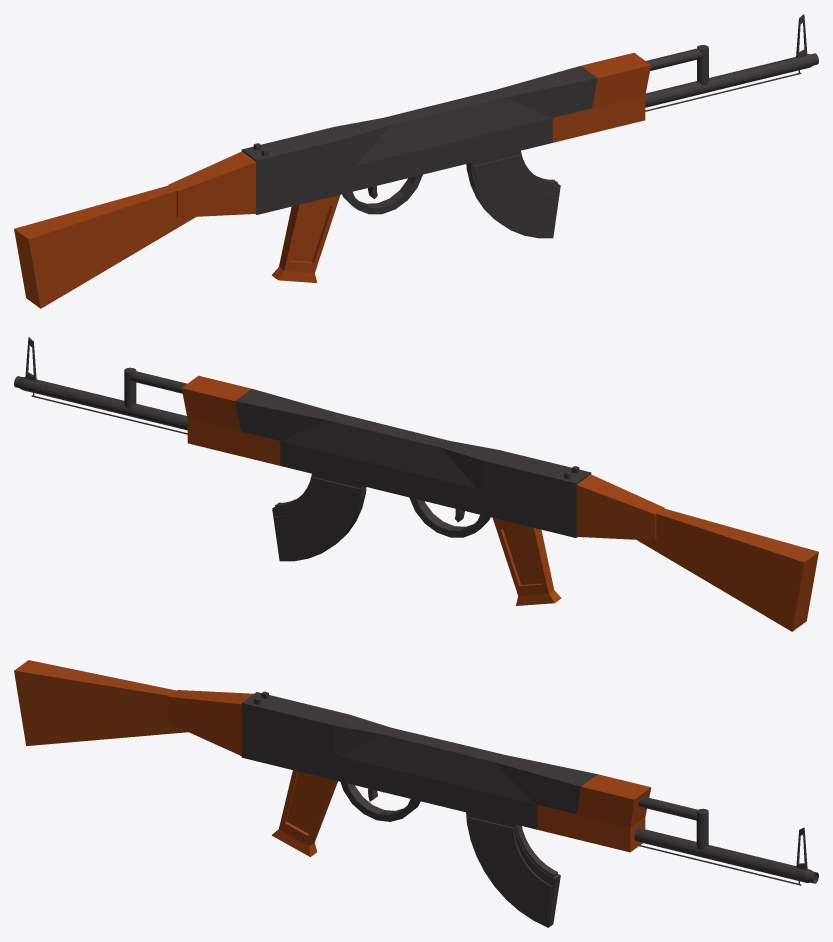
3 renders of one model, top to bottom at view 1: azimuth 30°, elevation 25°; view 2: azimuth 150°, elevation 25°; view 3: azimuth 330°, elevation 25°, orthographic.
Visible parts, largest first — view 1: Cube.005; view 2: Cube.005; view 3: Cube.005.
Part boxes in pixels (x1,y1,x2,y2): Cube.005: (14,14,818,308); Cube.005: (14,337,818,631); Cube.005: (14,660,818,927).
Bounding box in the file's own units: 506 × 97.57 × 18.75.
